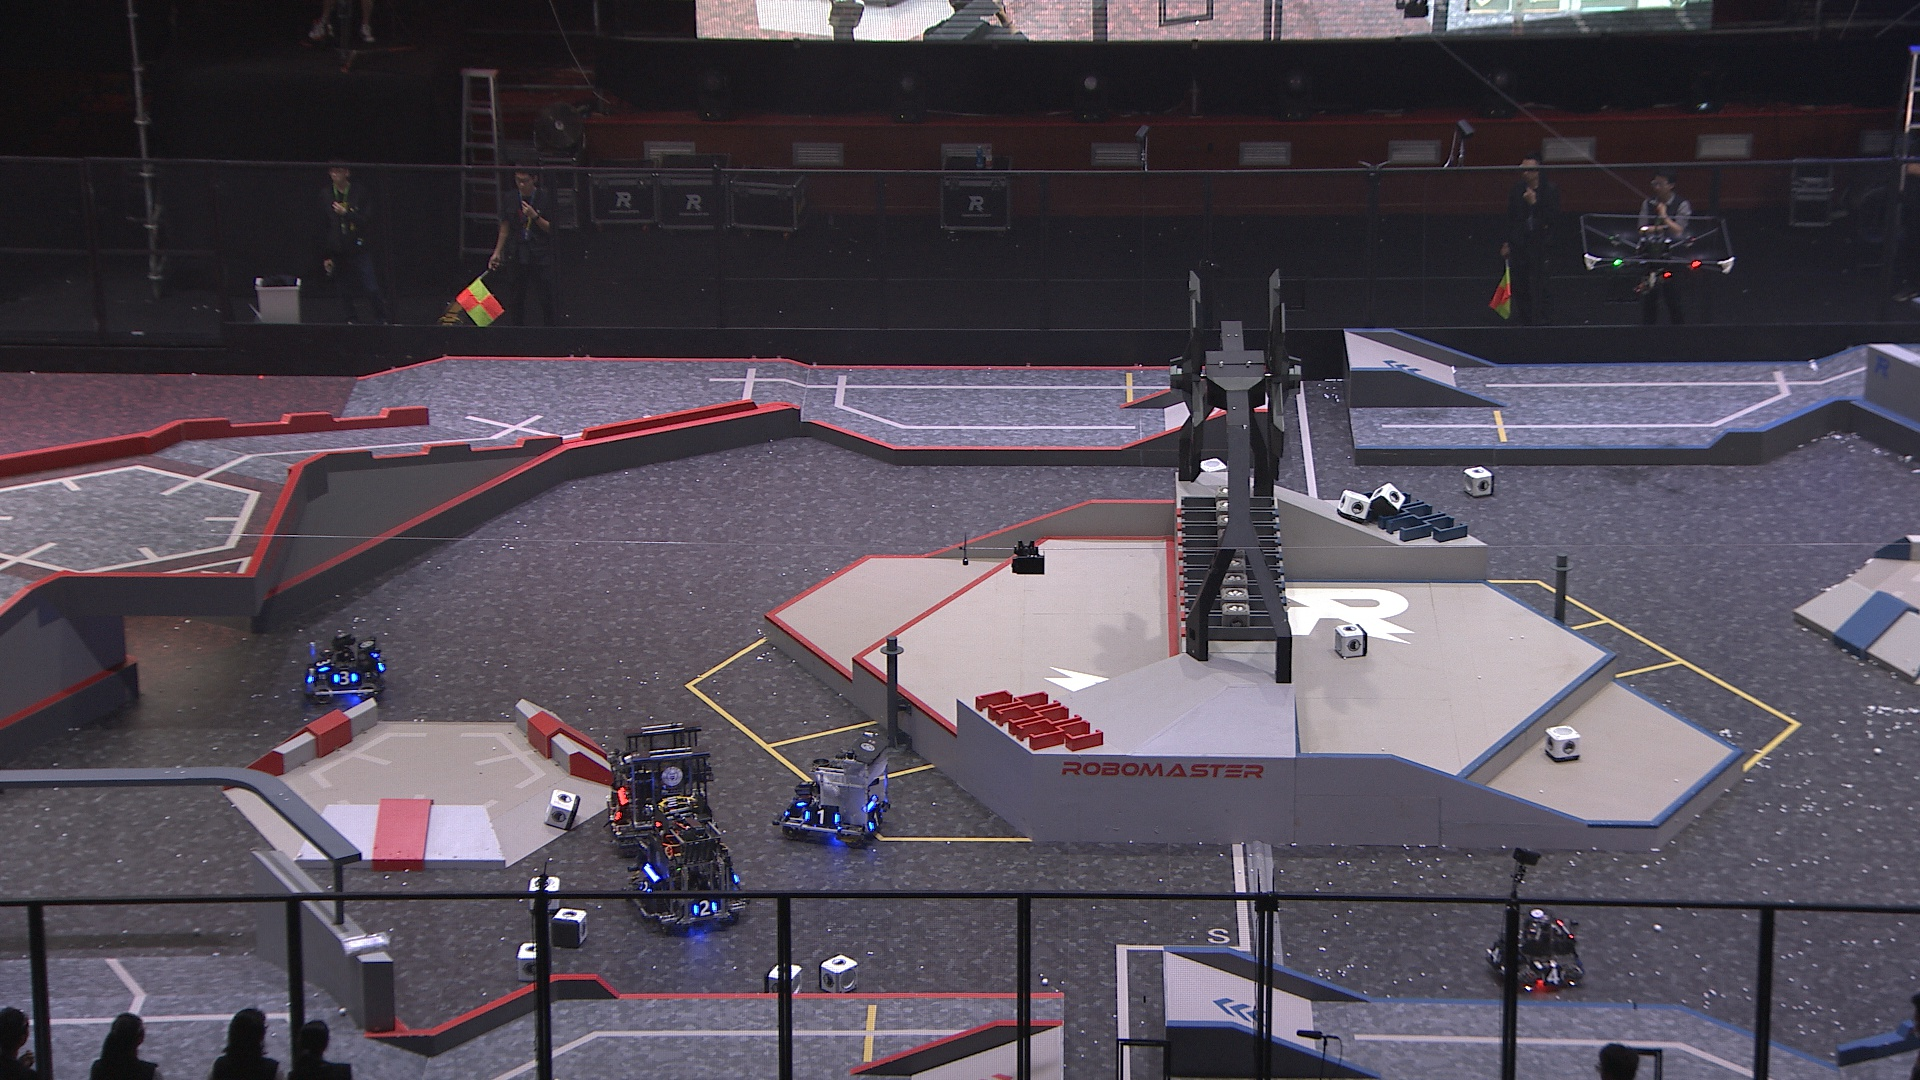armor: (803, 806, 843, 825), (864, 806, 885, 833), (1542, 965, 1567, 986), (794, 790, 814, 815), (690, 899, 717, 916), (334, 669, 357, 687), (611, 798, 626, 823), (311, 655, 334, 673), (637, 880, 654, 899), (1487, 943, 1503, 964), (305, 665, 319, 684)
car: (622, 796, 746, 924), (603, 717, 721, 851), (773, 727, 898, 847), (1485, 903, 1589, 989), (295, 626, 389, 705)
